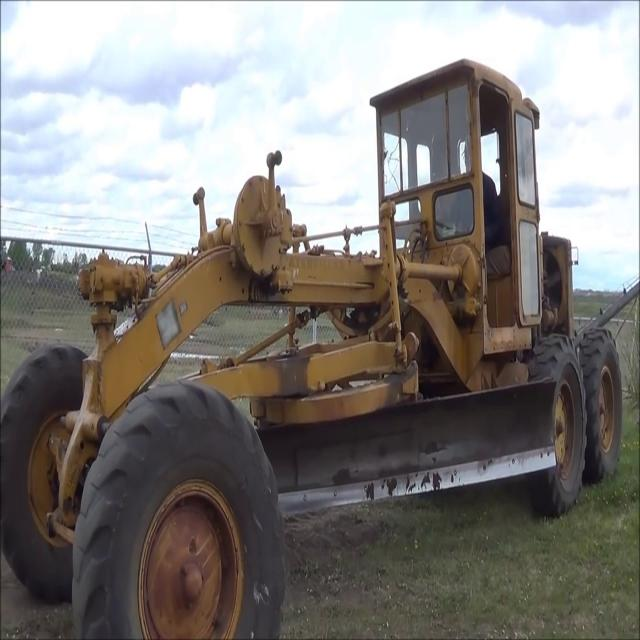buldozerpayloadergrader: (0, 58, 619, 640)
